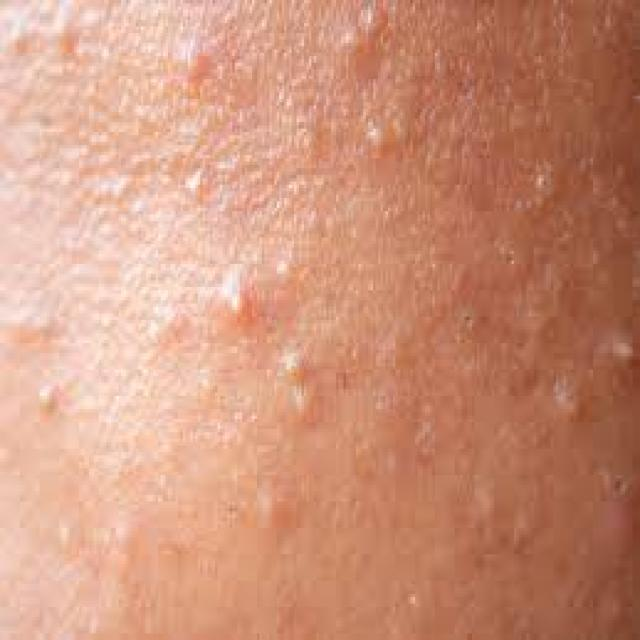fungal: (5, 11, 629, 620)
